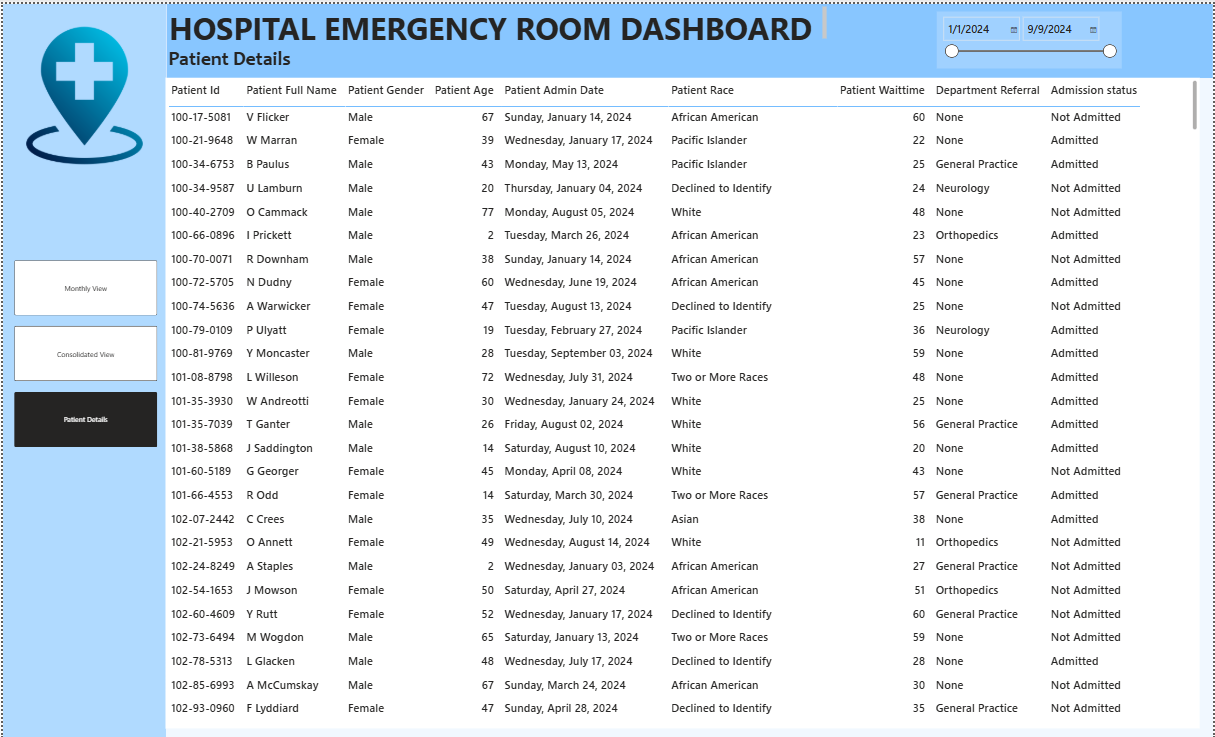

The page's visual inventory and layout, read from the dashboard file:
{"tool":"powerbi","page":{"name":"Patient Details","canvas":[2300,1400],"ordinal":2},"visuals":[{"type":"shape","box":[0,0,310,1400.5],"z":0},{"type":"shape","box":[310.7,0,1989.8,140.5],"z":1000},{"type":"textbox","box":[310.7,0,1260,78.9],"z":2000},{"type":"textbox","box":[310,75,307.5,65],"z":3000},{"type":"slicer","fields":{"Values":["Date Table.Date"]},"box":[1775,15,350,107.5],"z":4000},{"type":"image","box":[20,37.5,272.5,272.5],"z":5000},{"type":"tableEx","fields":{"Values":["Hospital ER_Data.Patient Id","Hospital ER_Data.Patient Full Name","Hospital ER_Data.Patient Gender","Sum(Hospital ER_Data.Patient Age)","Hospital ER_Data.Patient Admin Date","Hospital ER_Data.Patient Race","Sum(Hospital ER_Data.Patient Waittime)","Hospital ER_Data.Department Referral","Hospital ER_Data.Admission status"]},"box":[310,140,1967.5,1237.5],"z":6000},{"type":"pageNavigator","box":[22.5,487.5,272.5,357.5],"z":7000}]}

Visuals, with their boxes in screenshot pixels (x1, y1, x2, y2), scaled from the page's 2300x1400 canvas onto the 1215x737 screenshot:
shape: <bbox>0, 0, 164, 736</bbox>
shape: <bbox>164, 0, 1214, 74</bbox>
textbox: <bbox>164, 0, 830, 42</bbox>
textbox: <bbox>164, 39, 326, 74</bbox>
slicer - Date Table.Date: <bbox>938, 8, 1123, 64</bbox>
image: <bbox>11, 20, 155, 163</bbox>
tableEx - Hospital ER_Data.Patient Id x Hospital ER_Data.Patient Full Name: <bbox>164, 74, 1203, 725</bbox>
pageNavigator: <bbox>12, 257, 156, 445</bbox>
